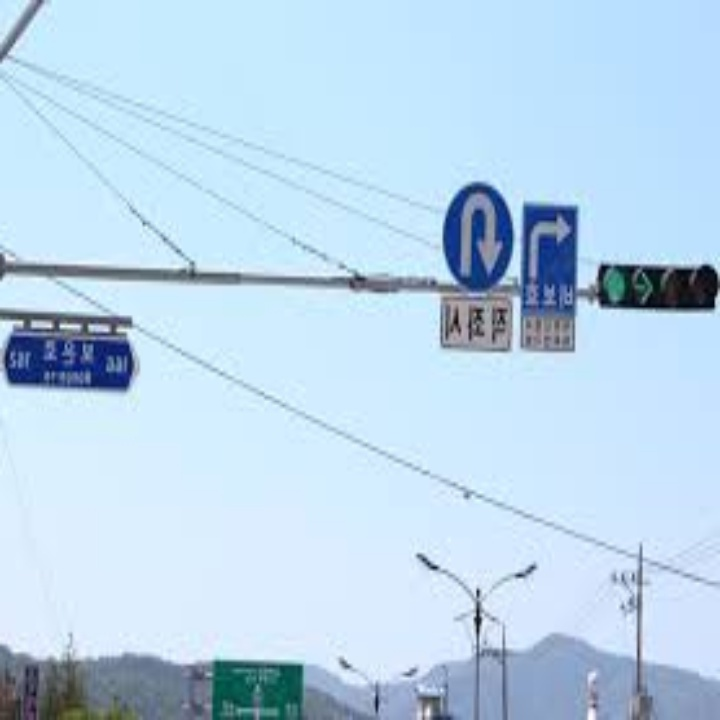right: (524, 208, 573, 283)
